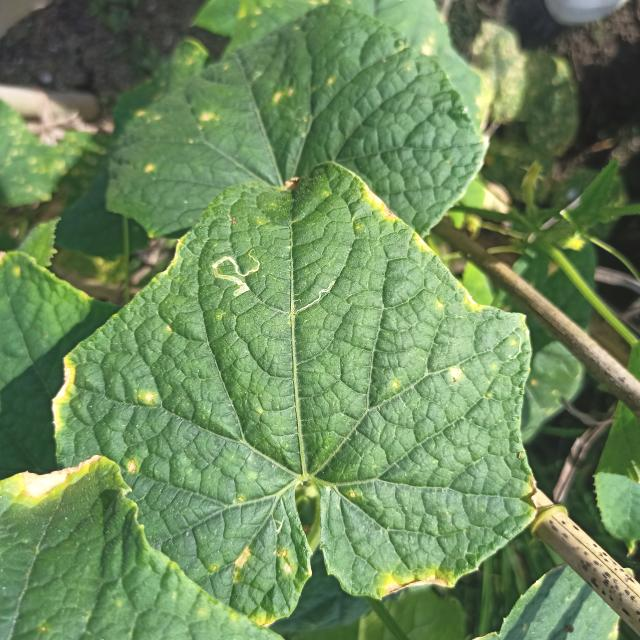disease_cucumber: (228, 536, 294, 580), (436, 287, 488, 318), (446, 364, 467, 384), (137, 389, 156, 409), (123, 456, 140, 475)
